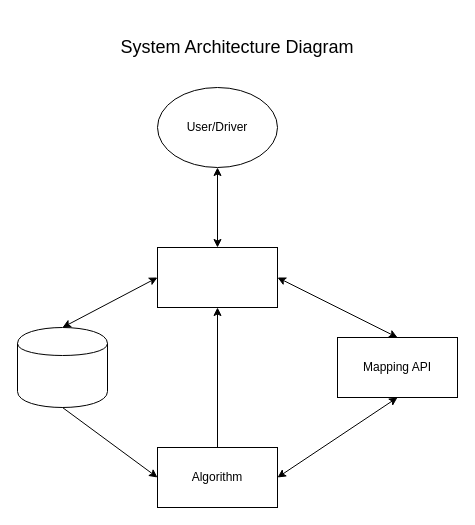
Some shapes in this 475 by 525 pixel diagram are drawn without their labels. The centre of each missing label's shape, as x and y in pixels:
"Application" belongs at (x=217, y=277).
"Database" belongs at (x=62, y=367).
